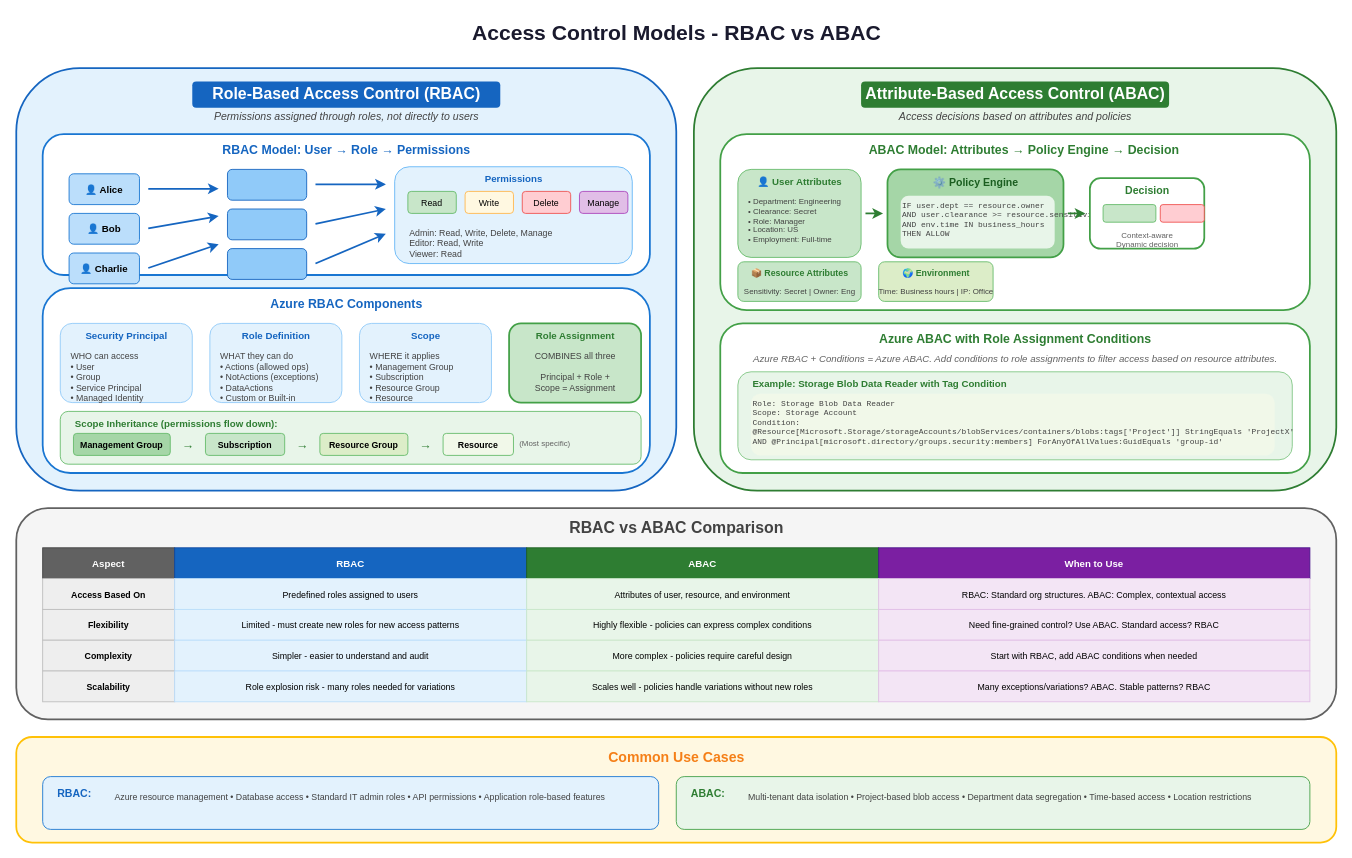
This 1352x858 diagram has some shape labels left out. The shapes that lost their labels are listed below. From the top down, each one's centre as x and y in pixels, then its label:
point (267, 184): 🔐 Admin
point (267, 224): ✏️ Editor
point (1129, 213): ✓ ALLOW
point (1181, 213): ✗ DENY
point (267, 263): 👁️ Viewer
